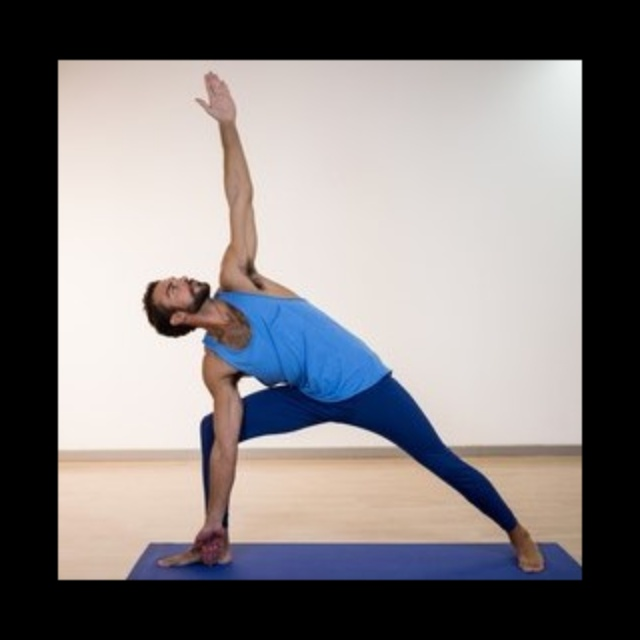Triangle_Pose: (127, 64, 553, 576)
